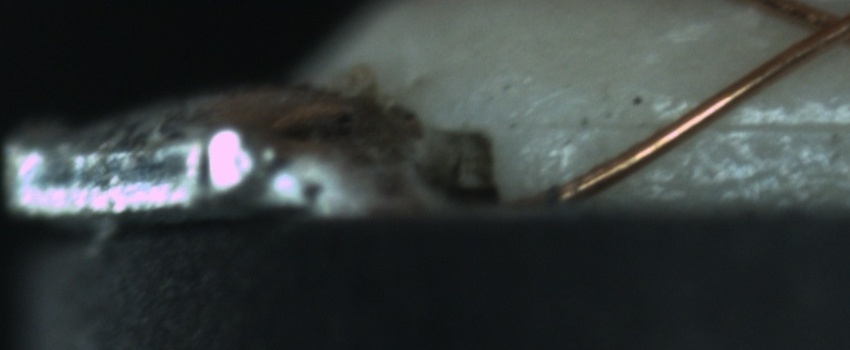CL: (776, 3, 849, 61)
DL: (537, 93, 850, 155)
